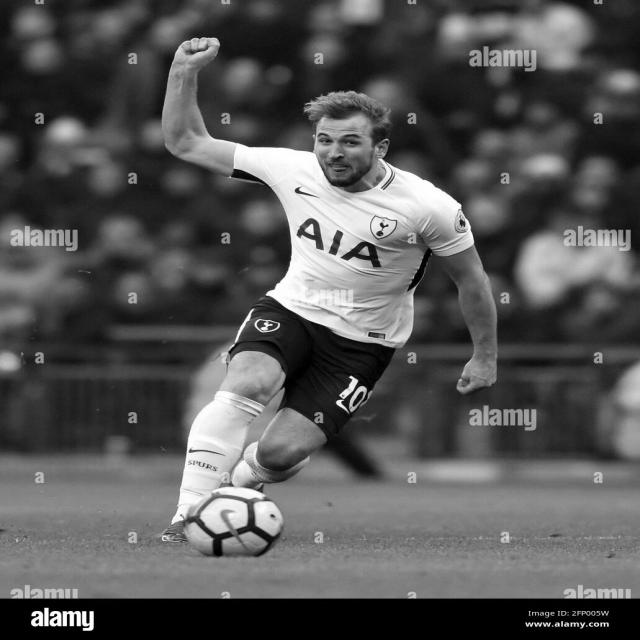football: (173, 490, 288, 555)
